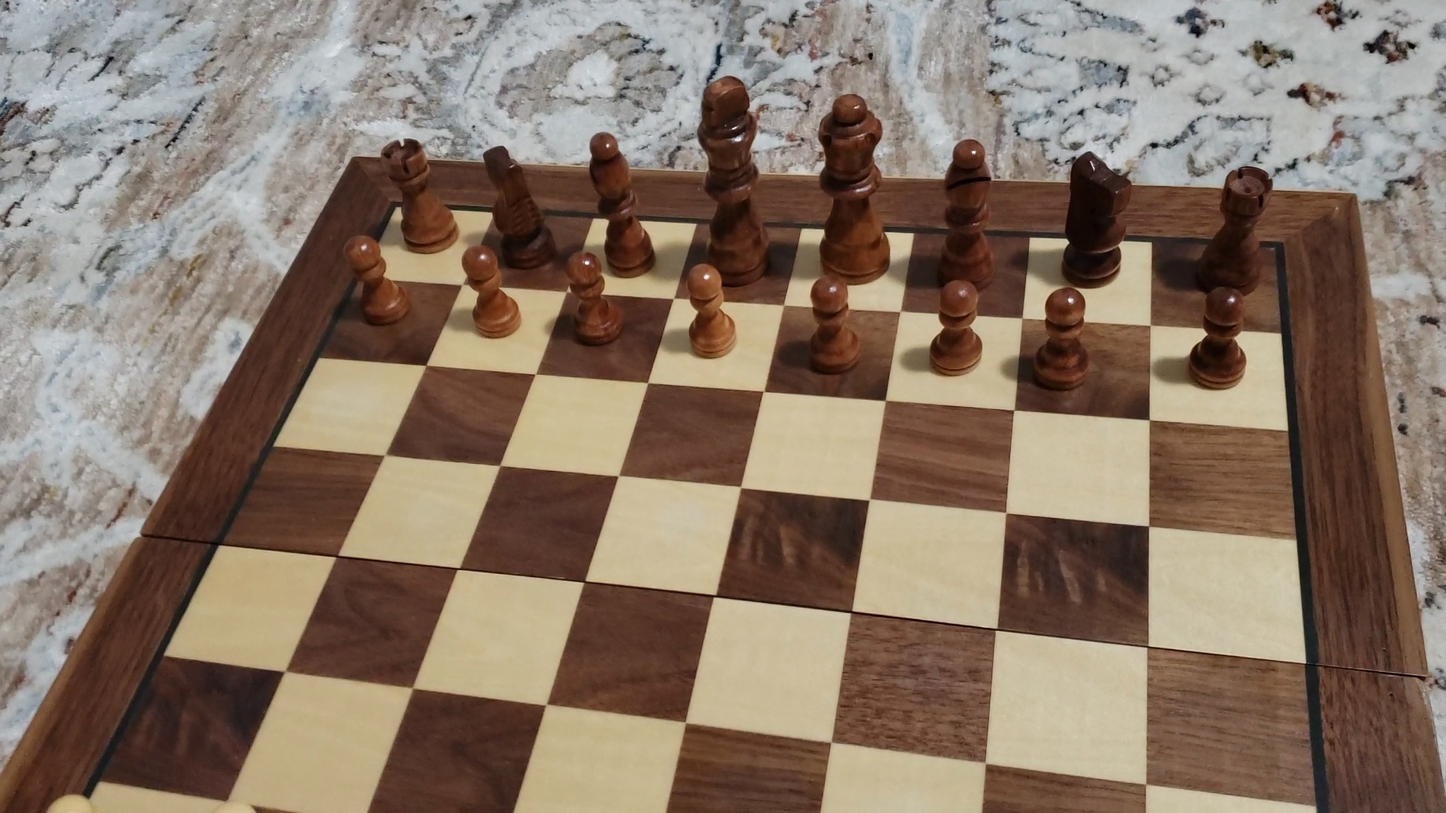black-bishop: (584, 129, 657, 277), (938, 136, 996, 291)
black-king: (694, 71, 772, 287)
black-knight: (1060, 148, 1133, 286), (481, 142, 556, 270)
black-pawn: (1187, 286, 1251, 391), (342, 234, 410, 329), (1033, 285, 1092, 393), (564, 248, 624, 348), (805, 273, 862, 377), (928, 277, 985, 378), (462, 244, 520, 340), (682, 260, 736, 360)
black-queen: (810, 89, 892, 283)
black-rook: (1193, 165, 1274, 292), (382, 137, 458, 254)
